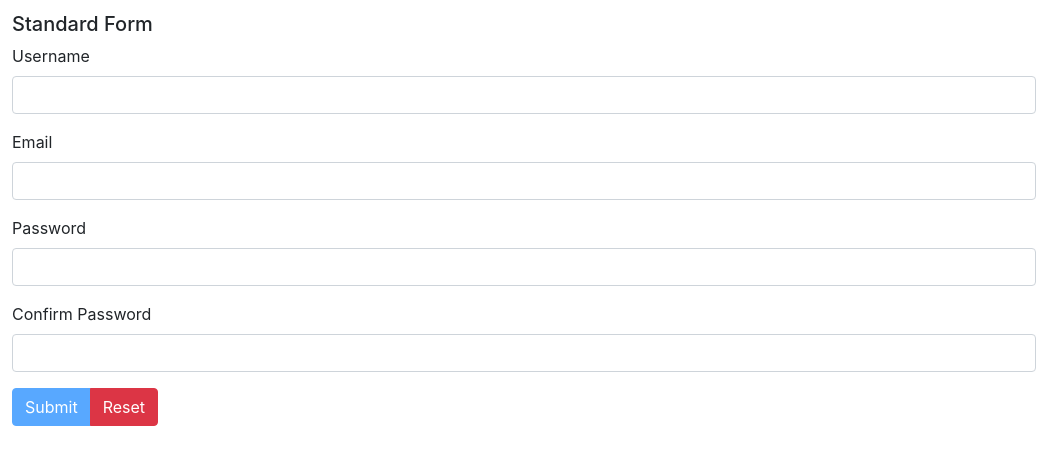
Test: StandardForm › validates username correctly
Type "short" into the field labelled "Username" at (524, 95), box [12, 76, 1036, 114]
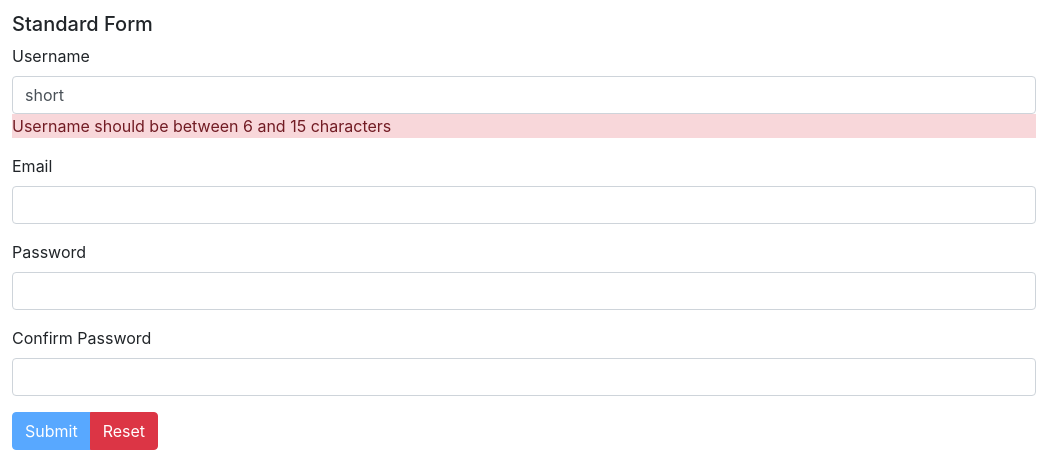
Expected: the text "Username should be between 6 and 15 characters" is shown, [12, 114, 1036, 138]
Replace the text in the field labelled "Username" with "validusername" at (524, 95), box [12, 76, 1036, 114]
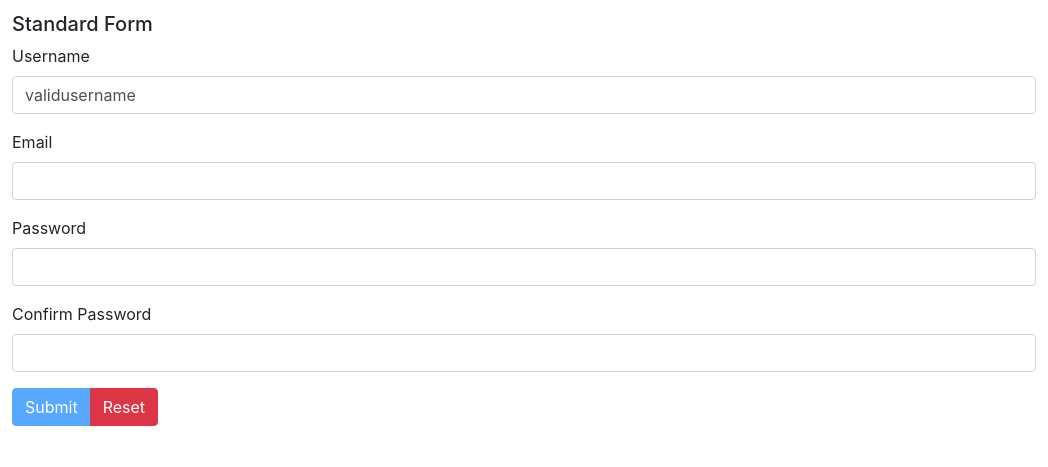
Expected: the text "Username should be between 6 and 15 characters" is gone
